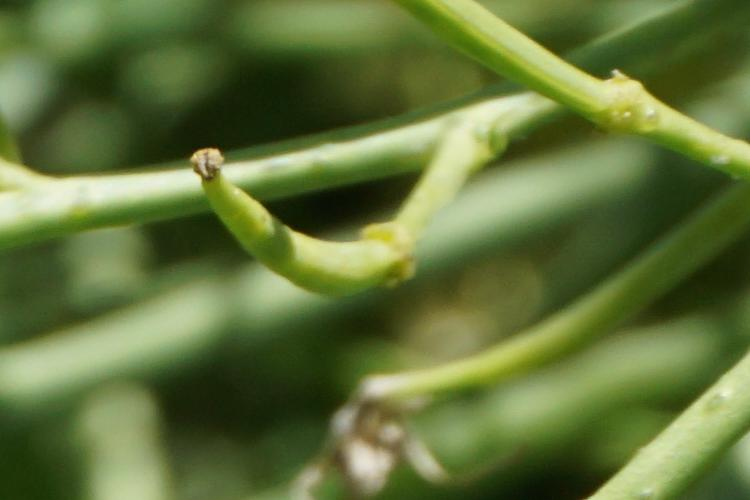pod: (185, 140, 435, 325)
